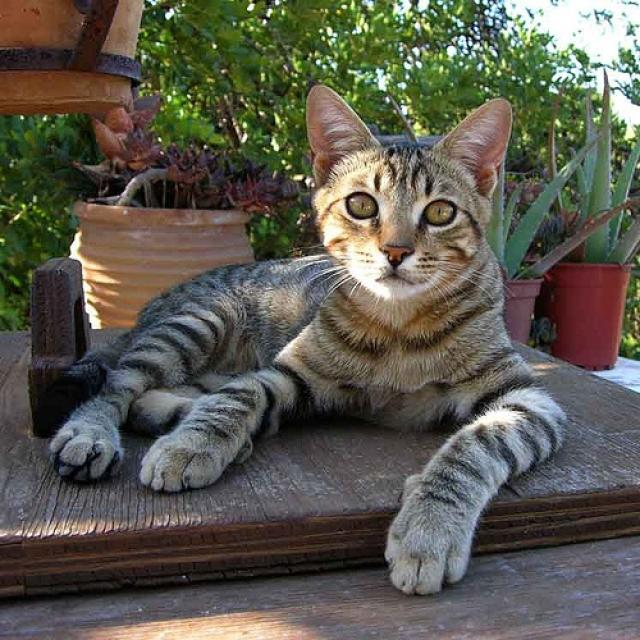cat: (48, 86, 567, 596)
pottedplant: (70, 96, 283, 327), (486, 120, 635, 345), (553, 69, 640, 370)
